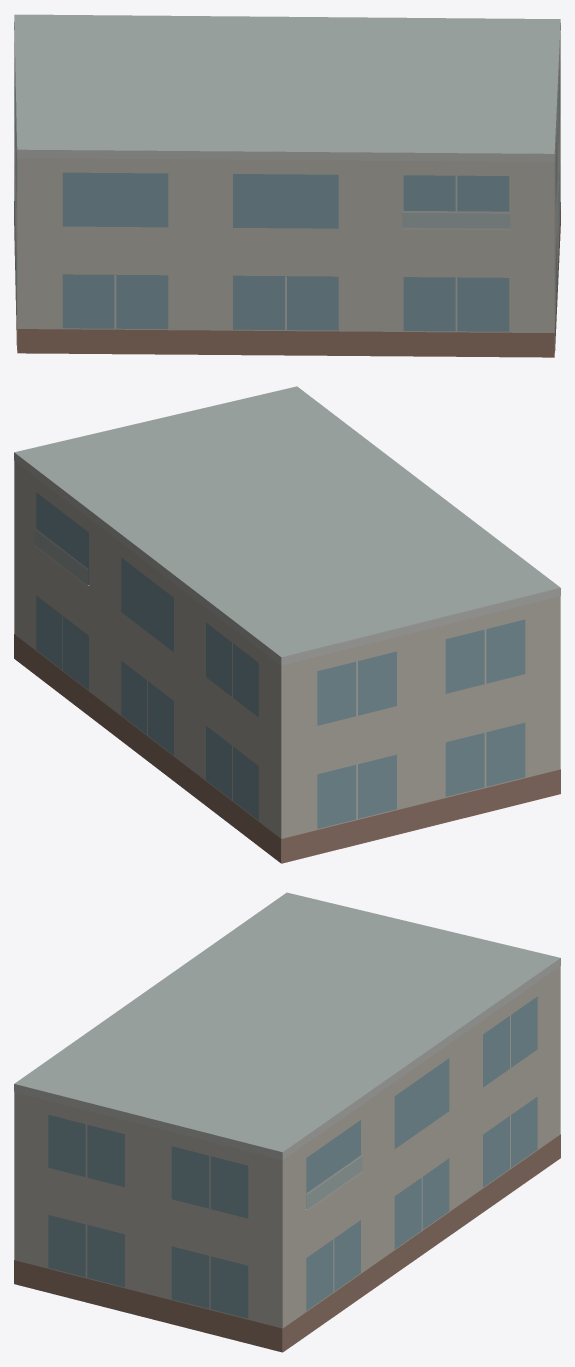
File: survey-upis-32880139.glb
3 views of the same model, one above another, from view 1: azimuth 30°, elevation 25°; view 2: azimuth 150°, elevation 25°; view 3: azimuth 270°, elevation 25° (orthographic). The views are drawn at different scales.
Visible parts, largest first — view 1: survey-upis-32880139.tmp; view 2: survey-upis-32880139.tmp; view 3: survey-upis-32880139.tmp.
Part boxes in pixels (x1,y1,x2,y2): survey-upis-32880139.tmp: (14, 14, 560, 357); survey-upis-32880139.tmp: (14, 386, 560, 863); survey-upis-32880139.tmp: (14, 892, 560, 1352).
Size of the model in its own units: 16.99 by 6.1 by 15.11.
